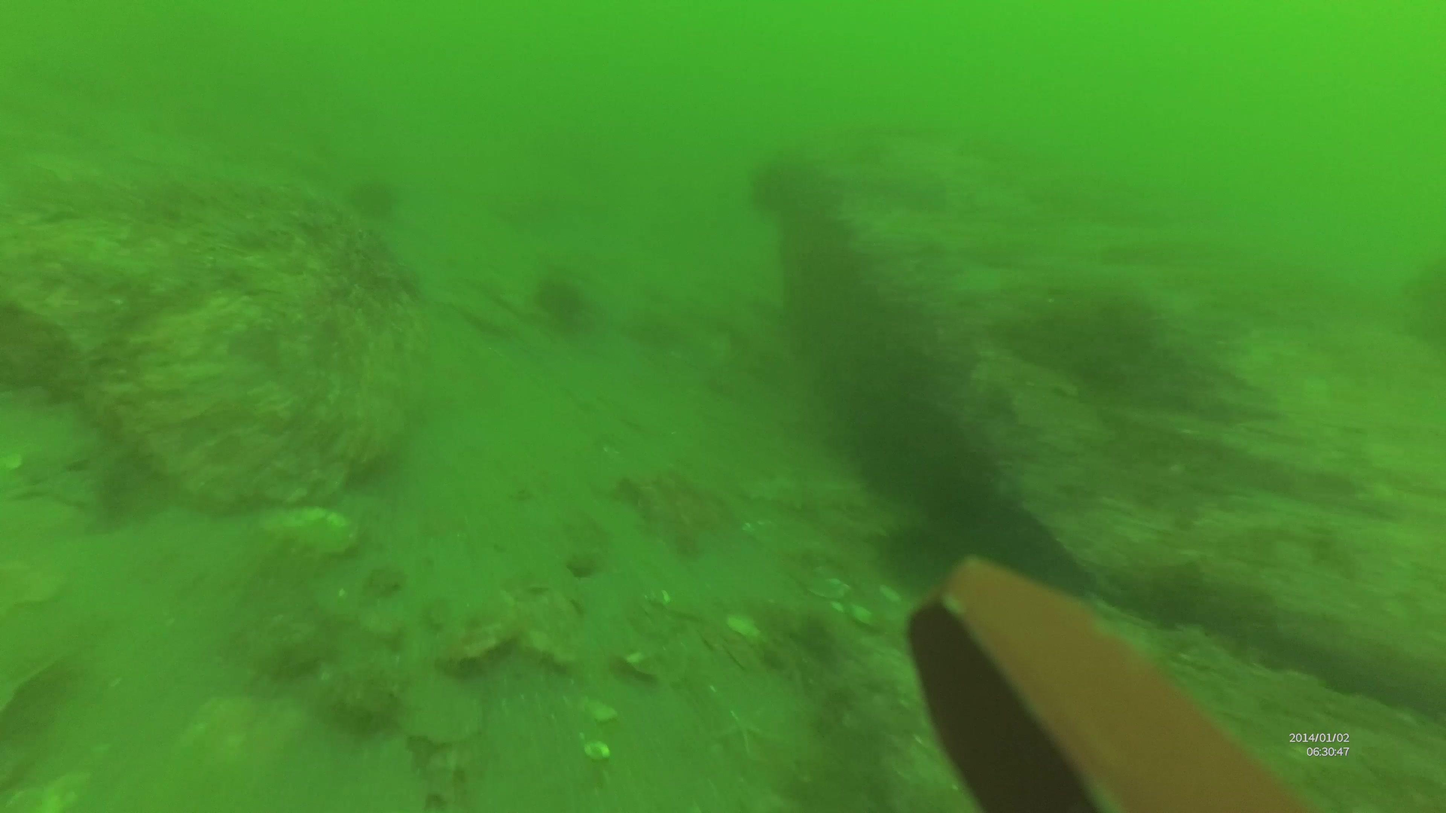echinus: (740, 470, 870, 514)
starfish: (749, 153, 812, 214), (533, 274, 589, 332), (345, 174, 399, 218)
